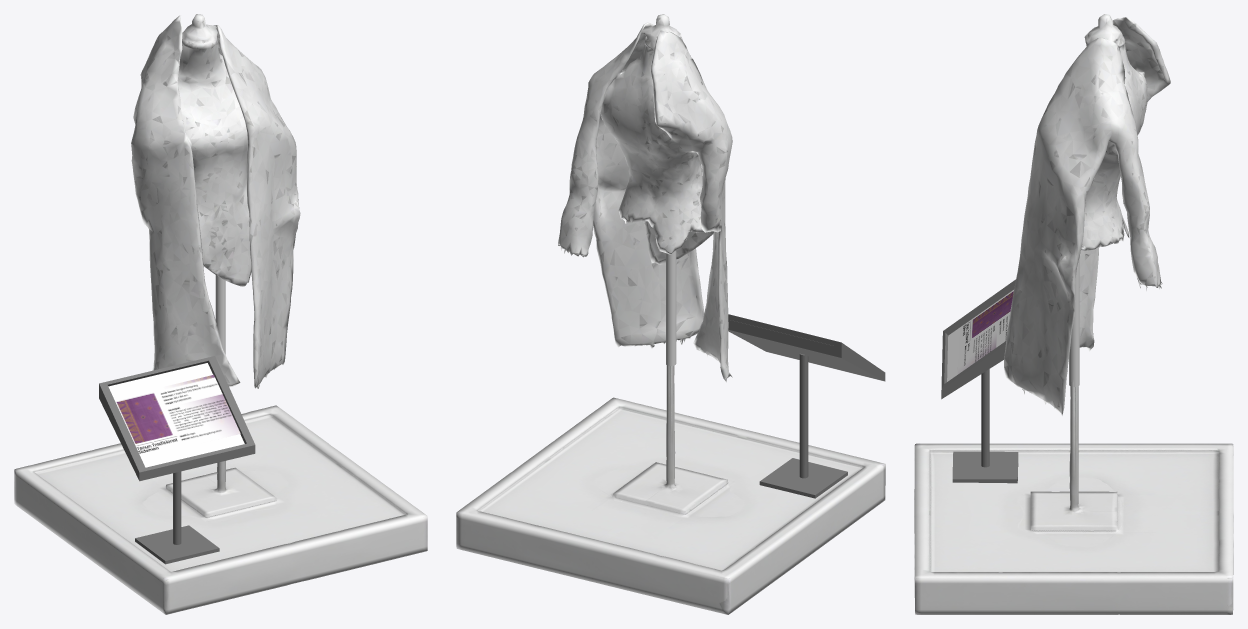
The model's file is RANGRANG.fbx.
3 renders of one model, left to right at view 1: azimuth 30°, elevation 25°; view 2: azimuth 150°, elevation 25°; view 3: azimuth 270°, elevation 25°, orthographic. The views are drawn at different scales.
Parts seen in each view (by area): view 1: Mesh_0, Mesh_0.001, Cube.090, Plane, Cylinder; view 2: Mesh_0, Mesh_0.001, Cube.090, Cylinder; view 3: Mesh_0, Mesh_0.001, Cube.090, Plane, Cylinder.
Boxes of the visible parts, box(x1,y1,x2,y2) form: Mesh_0: box(14, 405, 427, 614); Mesh_0.001: box(131, 14, 300, 388); Cube.090: box(99, 356, 255, 564); Plane: box(114, 374, 240, 457); Cylinder: box(215, 275, 225, 354); Mesh_0: box(456, 365, 885, 614); Mesh_0.001: box(558, 14, 732, 382); Cube.090: box(728, 314, 885, 498); Cylinder: box(666, 250, 676, 365); Mesh_0: box(914, 380, 1233, 614); Mesh_0.001: box(1004, 14, 1170, 415); Cube.090: box(941, 279, 1018, 483); Plane: box(957, 290, 1013, 374); Cylinder: box(1069, 257, 1079, 386).
Bounding box in the file's own units: 164 × 286 × 156.
